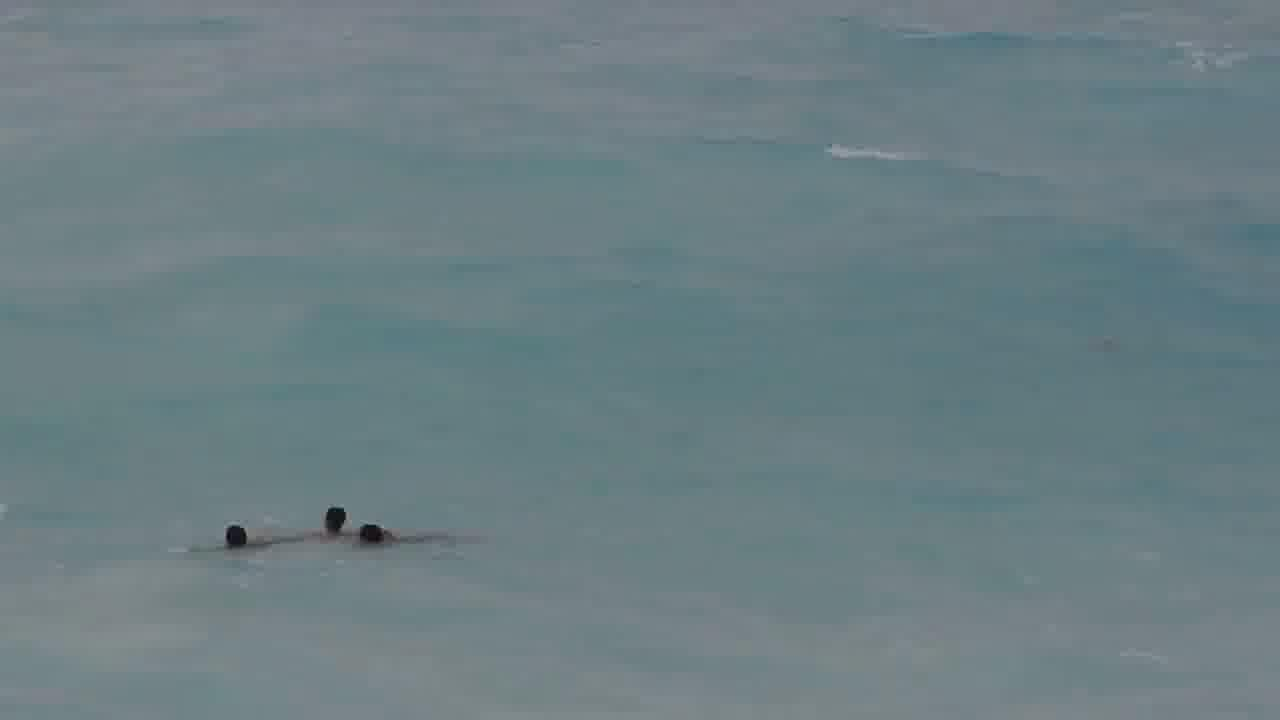swimmer: (350, 515, 428, 550), (200, 521, 294, 550), (293, 503, 360, 539)
